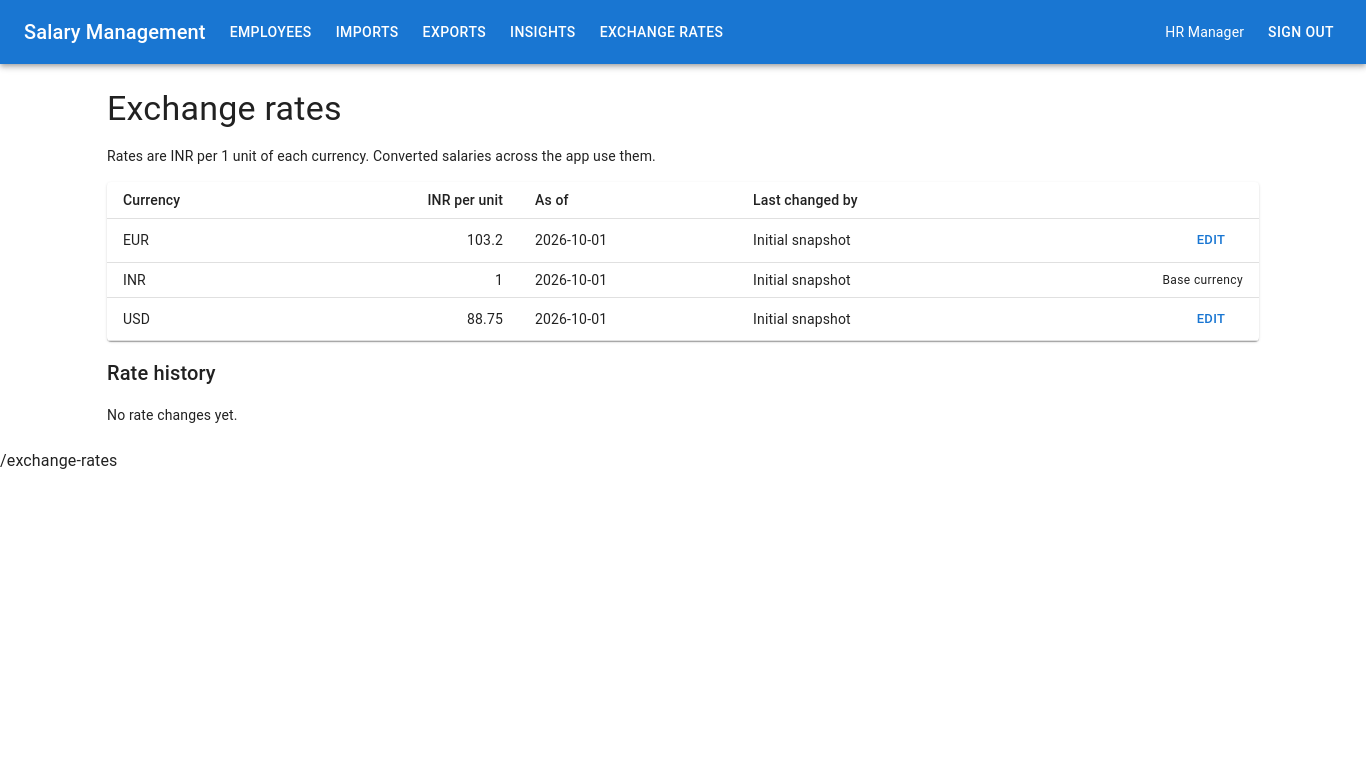
Test: exchange rates page › saves a new rate, then shows the new rate, its date and the history entry
Click the button with aria-label "Edit USD rate": (1211, 319) [1179,304,1243,334]
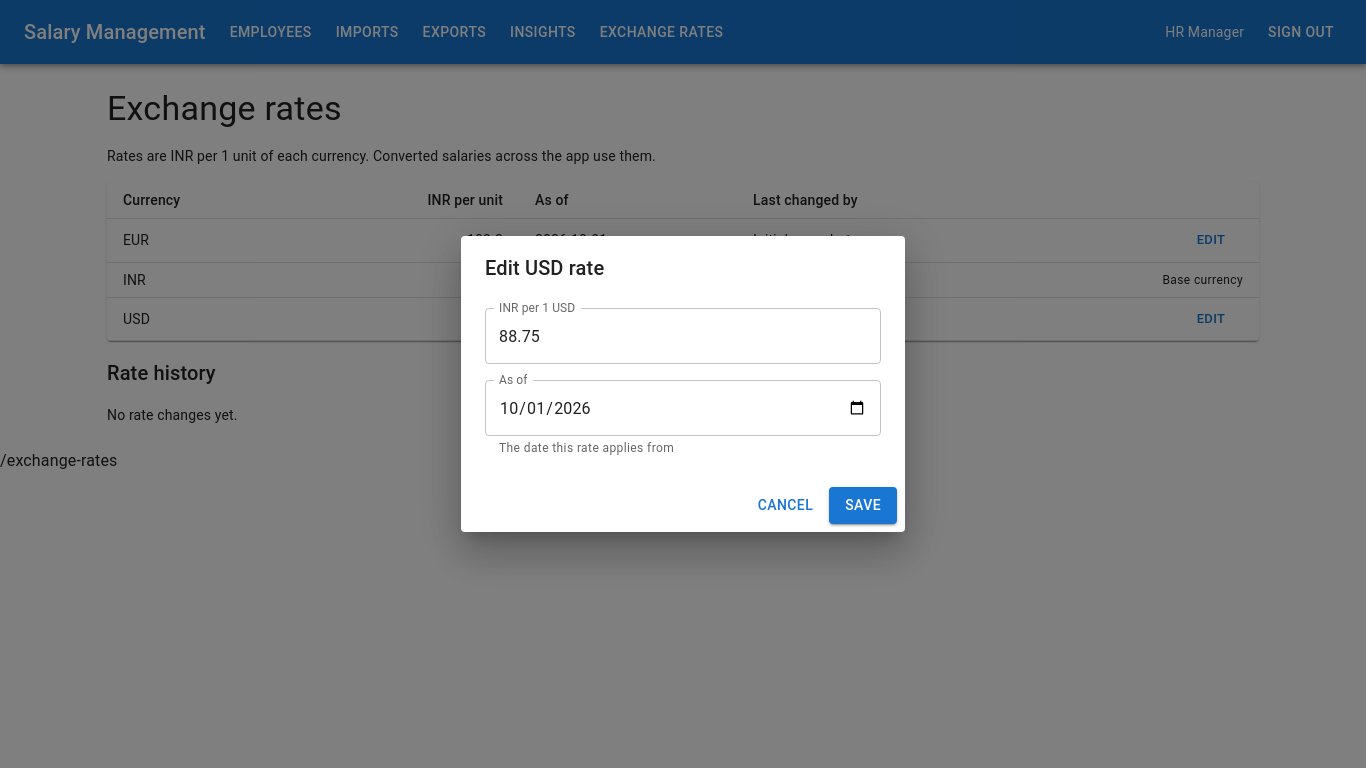
Expected: the field labelled "INR per 1 USD" holds "88.75"
Replace the text in the field labelled "INR per 1 USD" with "90": (683, 336) [485,308,881,364]
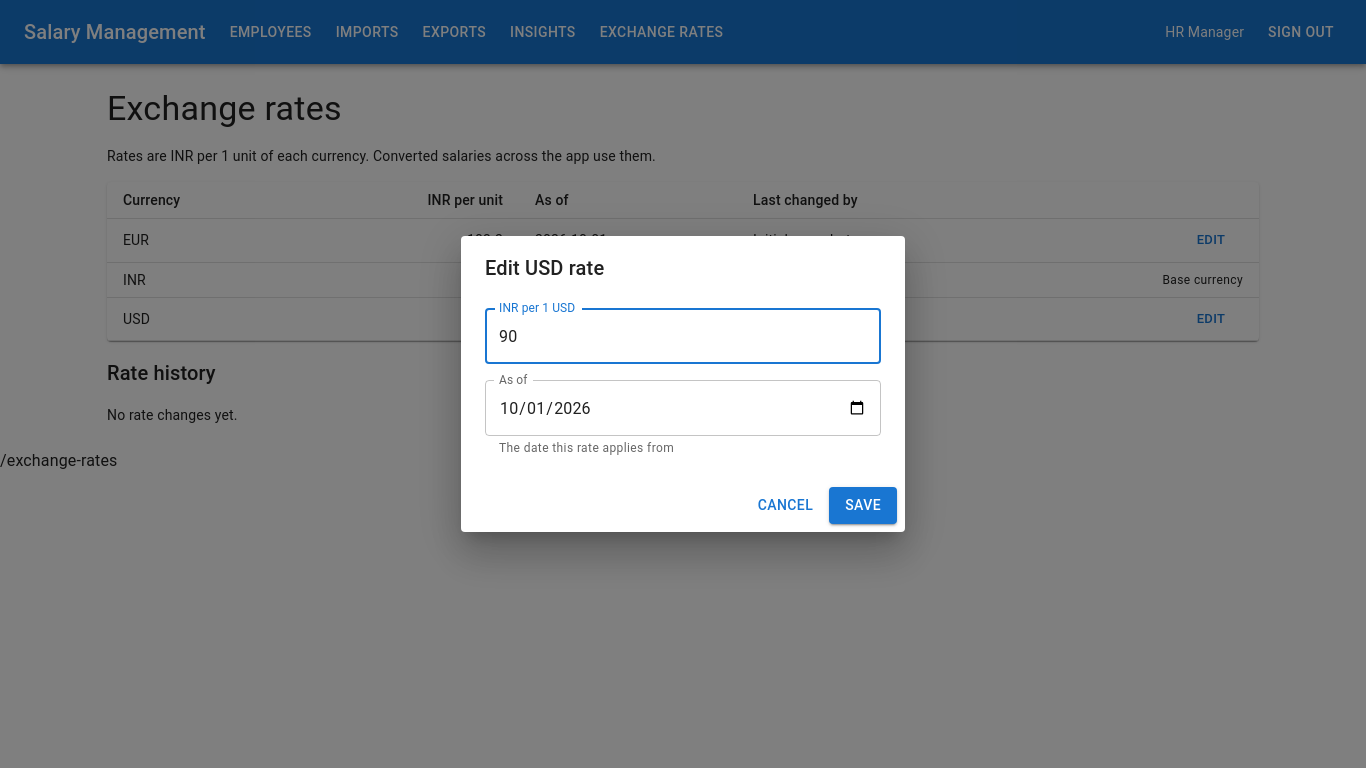
In the date field labelled "As of": (683, 408) [485,380,881,436], type "2026-10-12"
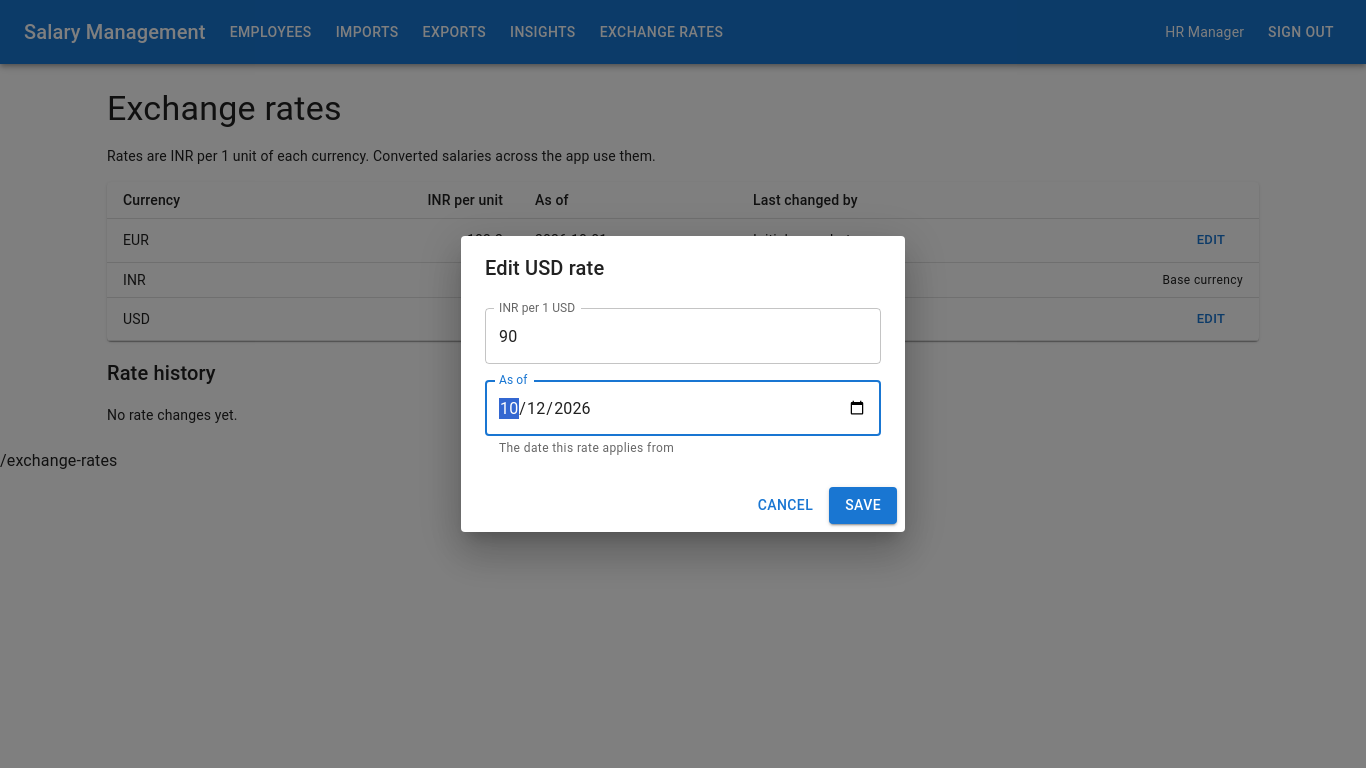
Click the button "Save": (863, 505) [829,487,897,524]
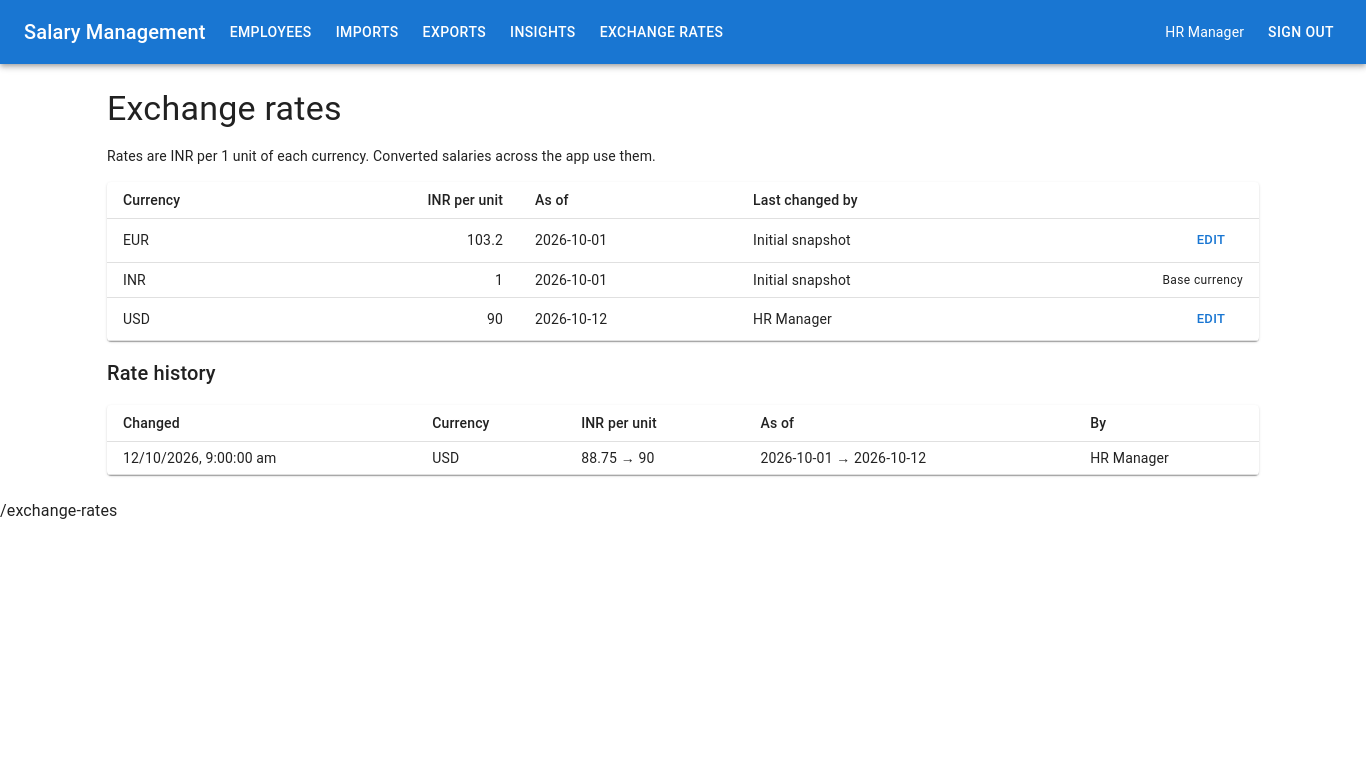
Expected: the dialog is gone
Expected: the text "90" is shown, [294,297,519,341]
Expected: the text "2026-10-12" is shown, [519,297,737,341]
